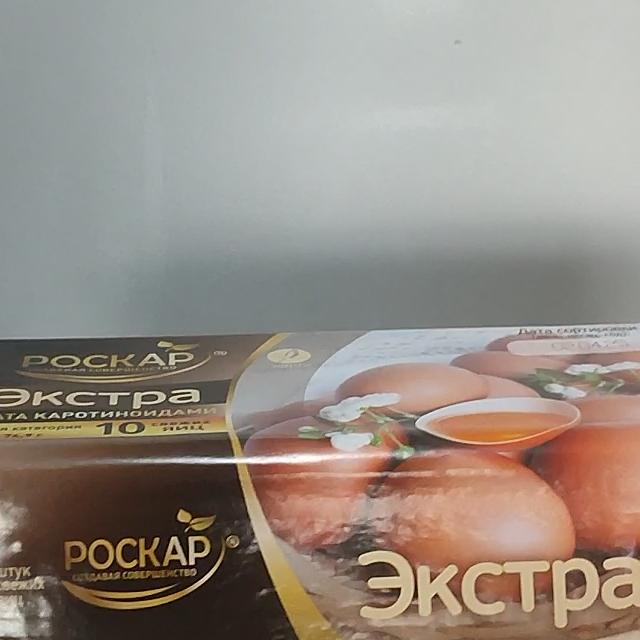egg: (0, 316, 640, 640)
